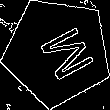M_SW: (24, 20, 91, 84)
